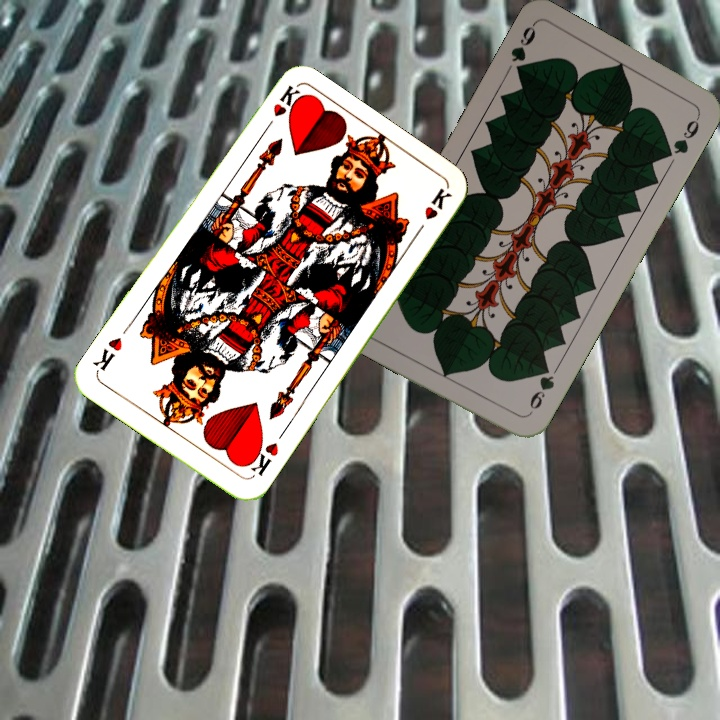G9: (523, 361, 558, 419), (506, 20, 538, 79)
HK: (258, 81, 303, 136), (242, 437, 281, 480)
